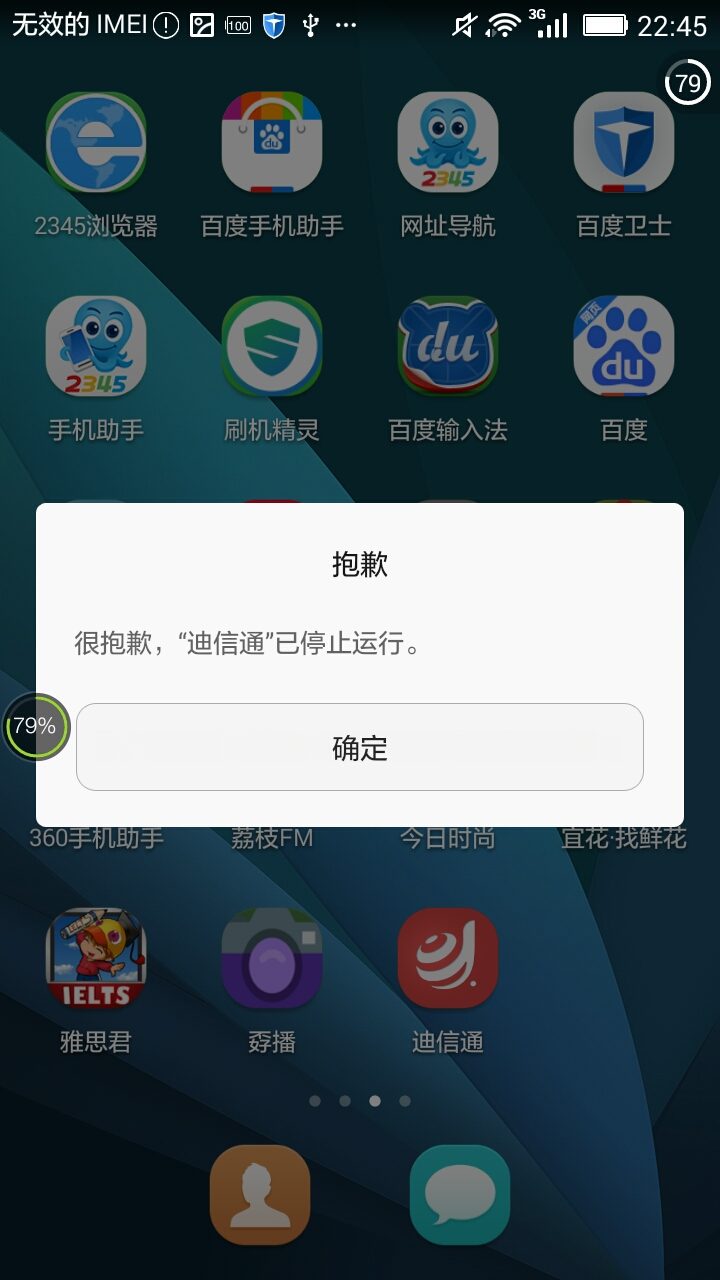alert: (21, 478, 708, 842)
